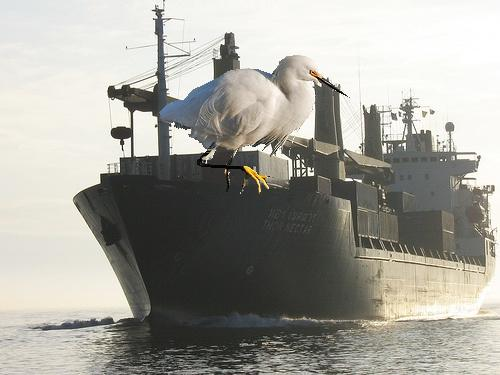tampered: (160, 56, 350, 194)
